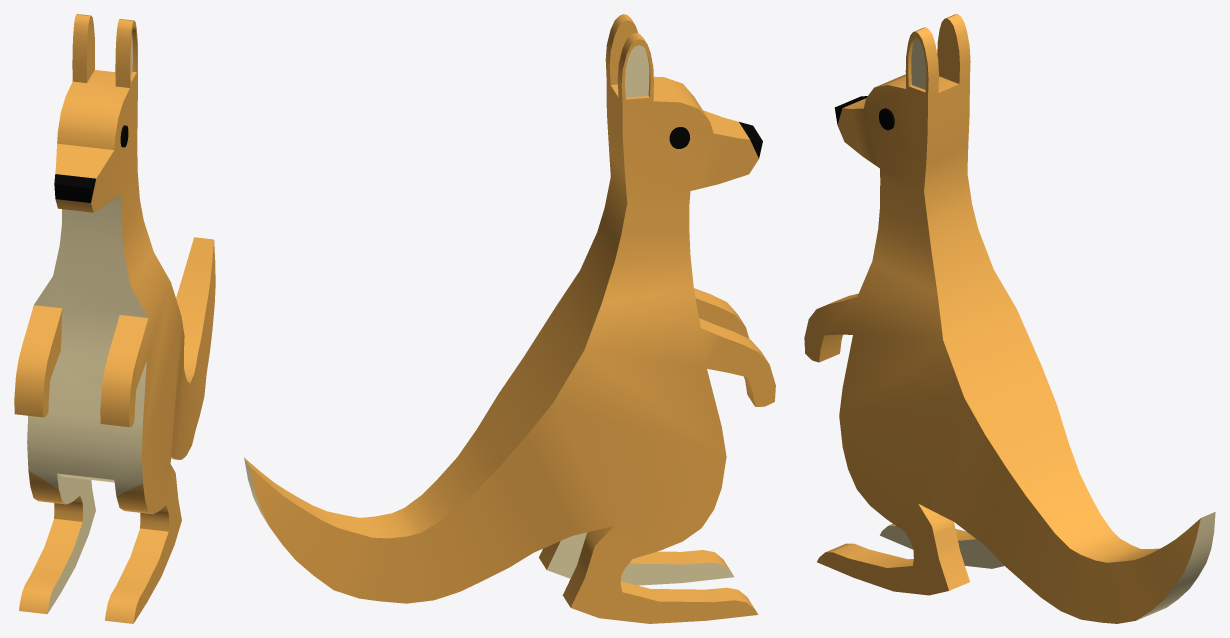
Rendered from kangaroo.glb.
3 renders of one model, left to right at view 1: azimuth 30°, elevation 25°; view 2: azimuth 150°, elevation 25°; view 3: azimuth 270°, elevation 25°, orthographic. The views are drawn at different scales.
Visible parts, largest first — view 1: Plane.147; view 2: Plane.147; view 3: Plane.147.
Boxes of the visible parts, <box> form: Plane.147: <box>14,14,215,623</box>; Plane.147: <box>244,14,775,623</box>; Plane.147: <box>804,14,1215,623</box>.
Size of the model in its own units: 1.49 by 2.22 by 1.49.
Materials: 1 (1 with a texture image).
